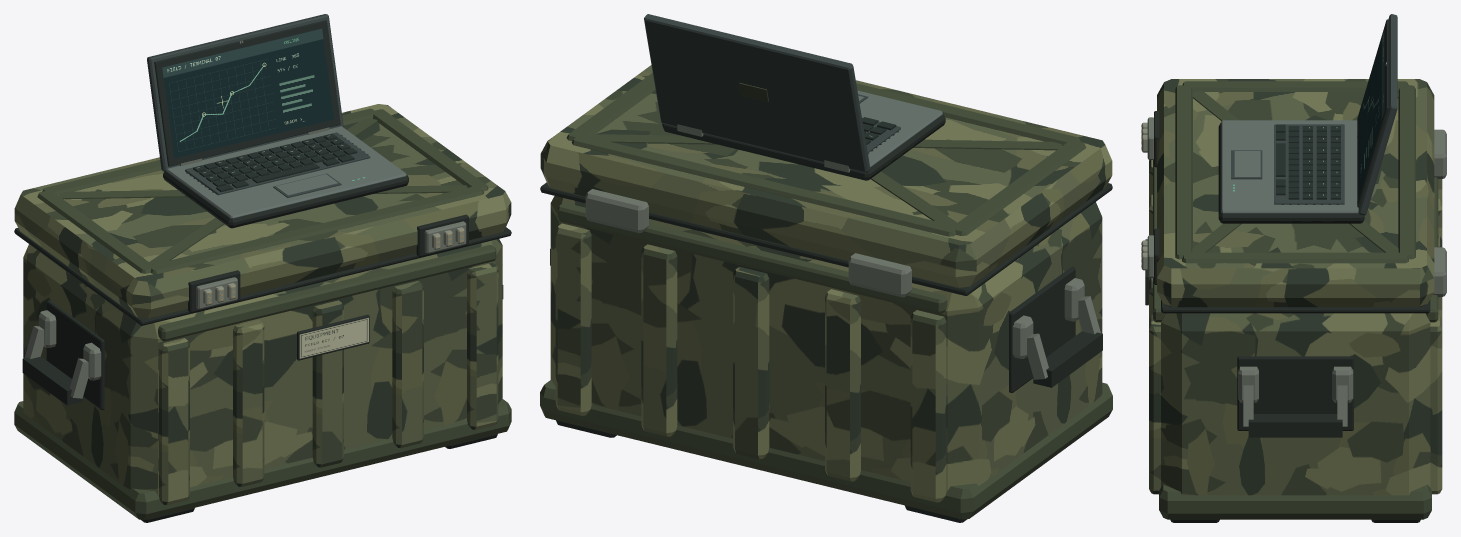
File: weapon_box_laptop.obj
The picture shows the model from 3 angles, left to right: view 1: azimuth 30°, elevation 25°; view 2: azimuth 150°, elevation 25°; view 3: azimuth 270°, elevation 25°; orthographic projection. The views are drawn at different scales.
Parts seen in each view (by area): view 1: Crate_Body_Molded_shell, Crate_Lid_Lid_shell, Crate_Body_Vertical_reinforcement, Laptop_Screen_Active_display, Crate_Body_Lower_bumper, Crate_Body_Upper_body_rail, Laptop_Base_Laptop_deck, Crate_Lid_Lid_long_rim, Laptop_Screen_Display_bezel, Crate_Lid_Lid_short_rim, Laptop_Base_Key, Crate_Body_Lid_gasket (+15 smaller); view 2: Crate_Body_Molded_shell, Crate_Lid_Lid_shell, Crate_Body_Vertical_reinforcement, Laptop_Screen_Display_back, Crate_Body_Lower_bumper, Crate_Lid_Lid_long_rim, Crate_Body_Upper_body_rail, Crate_Lid_Rear_hinge, Crate_Lid_Lid_short_rim, Crate_Body_Handle_recess, Crate_Body_Lid_gasket, Laptop_Base_Laptop_deck (+6 smaller); view 3: Crate_Body_Molded_shell, Crate_Lid_Lid_shell, Crate_Body_Lower_bumper, Laptop_Base_Laptop_deck, Crate_Lid_Lid_long_rim, Crate_Body_Handle_recess, Crate_Body_Vertical_reinforcement, Crate_Lid_Lid_short_rim, Laptop_Base_Key, Laptop_Base_Keyboard_well, Crate_Body_Handle_grip, Laptop_Screen_Active_display (+16 smaller).
Boxes of the visible parts, x1,y1,x2,y2 form: Crate_Body_Molded_shell: (23, 239, 502, 495); Crate_Lid_Lid_shell: (14, 104, 511, 318); Crate_Body_Vertical_reinforcement: (158, 262, 498, 505); Laptop_Screen_Active_display: (162, 28, 334, 158); Crate_Body_Lower_bumper: (14, 398, 511, 519); Crate_Body_Upper_body_rail: (158, 245, 496, 341); Laptop_Base_Laptop_deck: (166, 126, 406, 218); Crate_Lid_Lid_long_rim: (42, 108, 484, 274); Laptop_Screen_Display_bezel: (154, 20, 340, 166); Crate_Lid_Lid_short_rim: (37, 109, 488, 273); Laptop_Base_Key: (193, 133, 357, 186); Crate_Body_Lid_gasket: (14, 227, 511, 325); Crate_Body_Molded_shell: (550, 196, 1102, 490); Crate_Lid_Lid_shell: (540, 65, 1112, 287); Crate_Body_Vertical_reinforcement: (555, 223, 946, 502); Laptop_Screen_Display_back: (644, 14, 870, 172); Crate_Body_Lower_bumper: (540, 380, 1112, 519); Crate_Lid_Lid_long_rim: (571, 83, 1080, 236); Crate_Body_Upper_body_rail: (557, 202, 947, 313); Crate_Lid_Rear_hinge: (585, 189, 911, 297); Crate_Lid_Lid_short_rim: (566, 73, 1086, 235); Crate_Body_Handle_recess: (1009, 266, 1075, 392); Crate_Body_Lid_gasket: (540, 182, 1112, 295); Laptop_Base_Laptop_deck: (857, 90, 942, 167); Crate_Body_Molded_shell: (1161, 313, 1430, 495); Crate_Lid_Lid_shell: (1157, 79, 1434, 307); Crate_Body_Lower_bumper: (1159, 484, 1431, 519); Laptop_Base_Laptop_deck: (1221, 120, 1358, 213); Crate_Lid_Lid_long_rim: (1175, 85, 1415, 259); Crate_Body_Handle_recess: (1237, 356, 1353, 430); Crate_Body_Vertical_reinforcement: (1149, 160, 1442, 494); Crate_Lid_Lid_short_rim: (1182, 81, 1408, 263); Laptop_Base_Key: (1288, 126, 1340, 199); Laptop_Base_Keyboard_well: (1274, 124, 1344, 204); Crate_Body_Handle_grip: (1248, 414, 1342, 437); Laptop_Screen_Active_display: (1359, 29, 1384, 196).
Bounding box in the file's own units: 1.64 × 1.3 × 0.943.
Materials: 13 (3 with a texture image).
